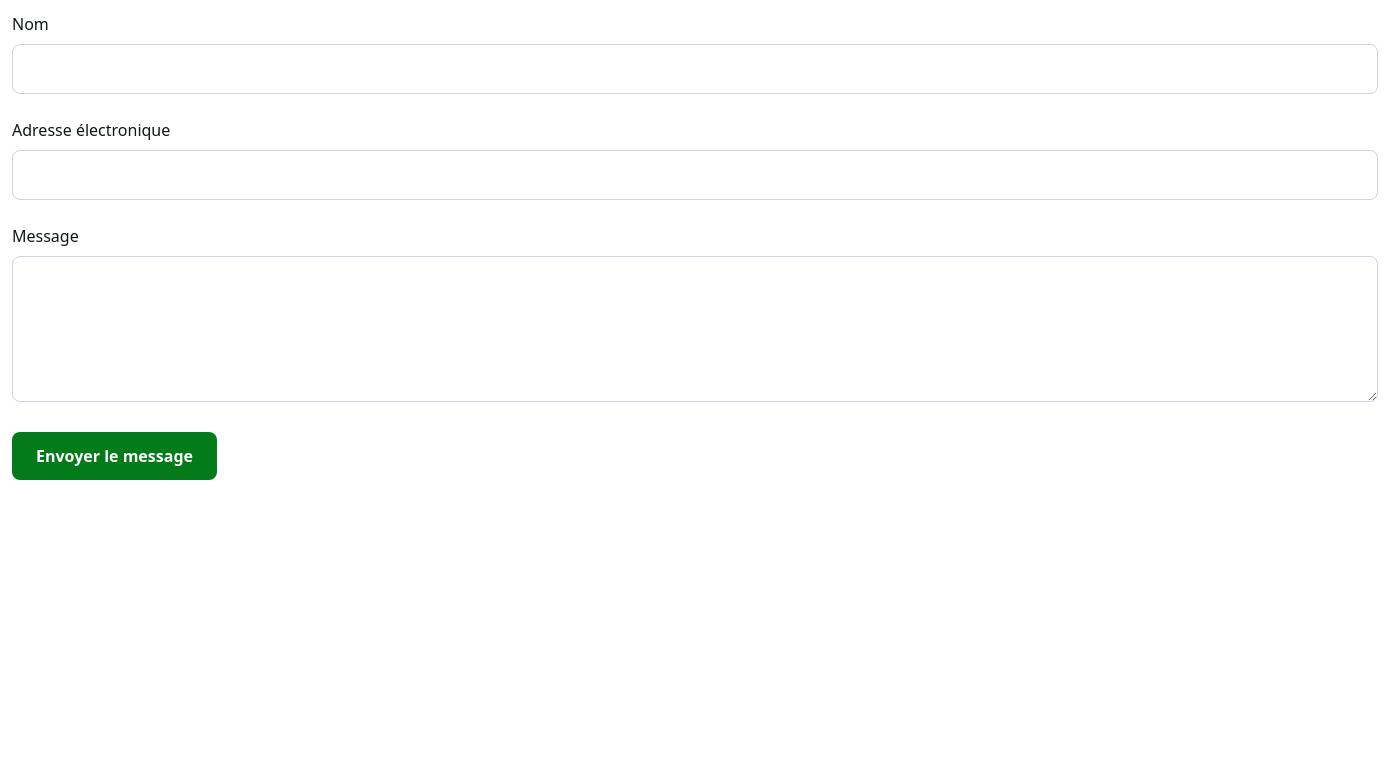
Test: Formulaire de contact › refuse un formulaire vide et signale chaque champ
The width and height of the screenshot is (1390, 780).
Click the button "Envoyer le message": (114, 456) [12,432,217,480]
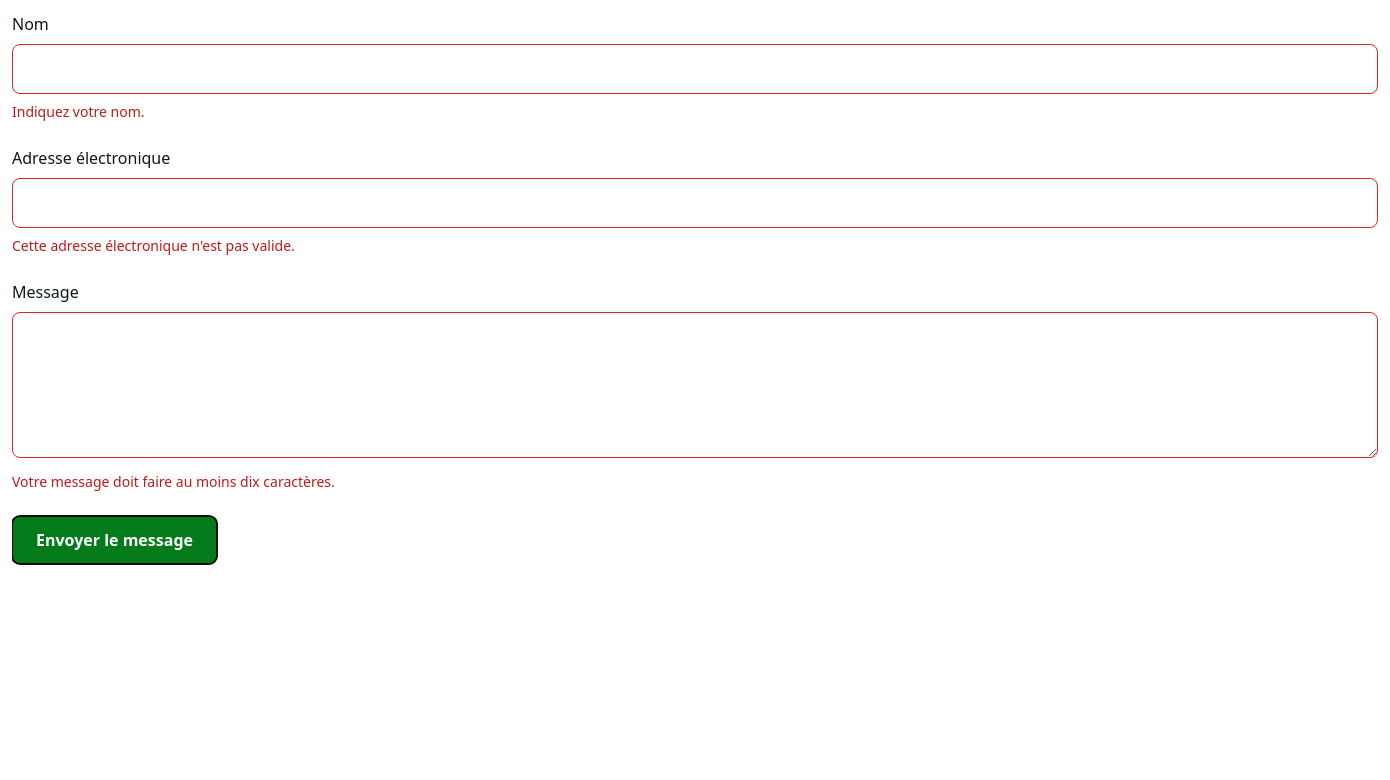
Check: the number of messages is 3, box [12,102,144,121]; [12,236,295,255]; [12,472,335,491]
